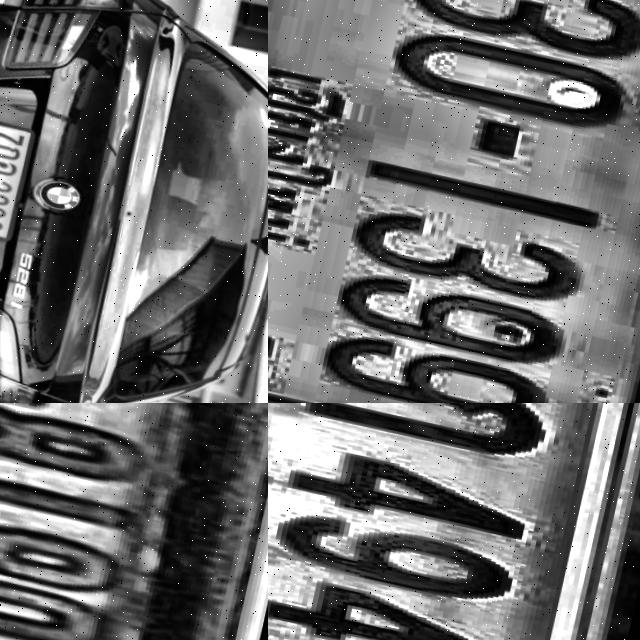license-plate: (268, 0, 640, 403), (268, 403, 640, 640), (0, 403, 268, 640), (0, 108, 41, 240)
